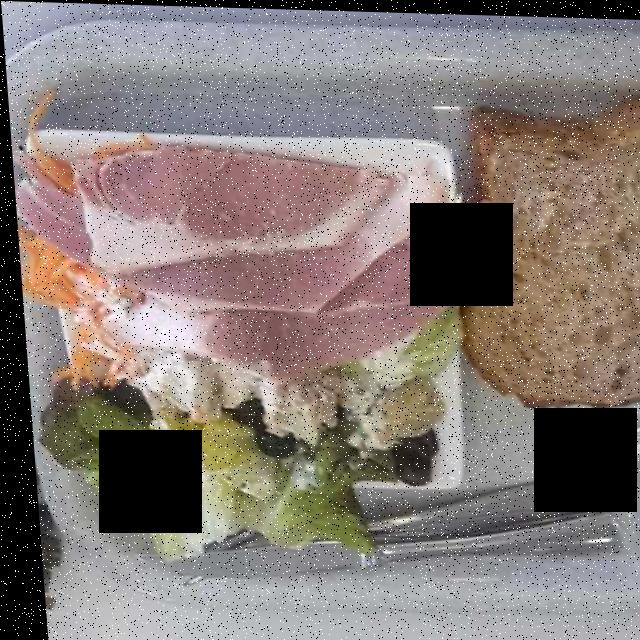bread-wholemeal: (459, 103, 640, 402)
carrot-raw: (25, 250, 131, 389)
potato-salad-with-mayonnaise-yogurt-dressing: (144, 317, 419, 431)
salad-leaf-salad-green: (66, 299, 454, 562)
water: (589, 407, 640, 579)
